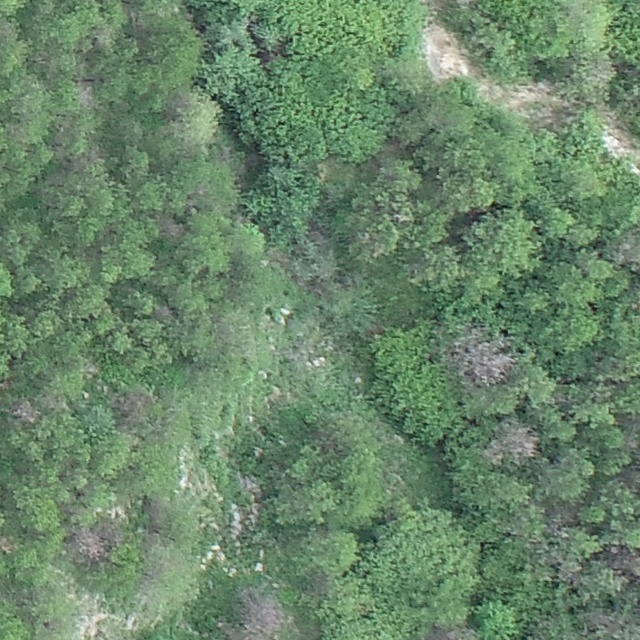unhealthy: (449, 331, 514, 388), (484, 420, 540, 463), (239, 590, 285, 637), (69, 526, 110, 562), (113, 388, 155, 419), (611, 230, 640, 270), (608, 546, 639, 581), (11, 397, 41, 426), (425, 624, 478, 639), (155, 214, 184, 241), (583, 608, 616, 630), (0, 534, 17, 554)
